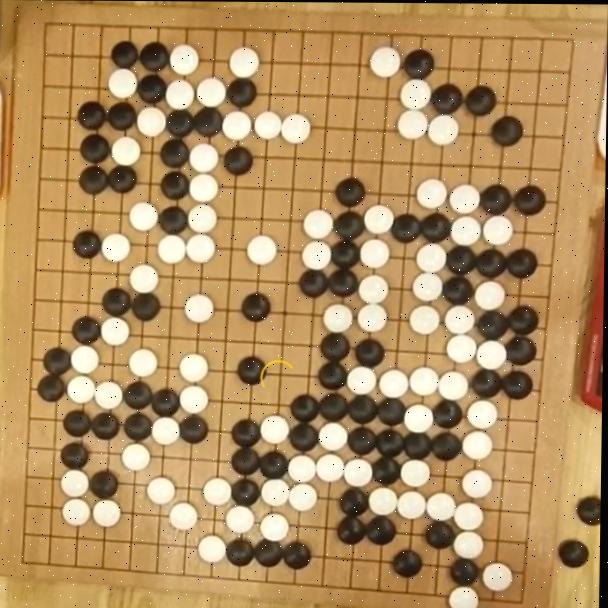corners: (28, 11, 69, 50), (7, 540, 48, 578), (492, 580, 546, 608), (558, 21, 588, 69)
